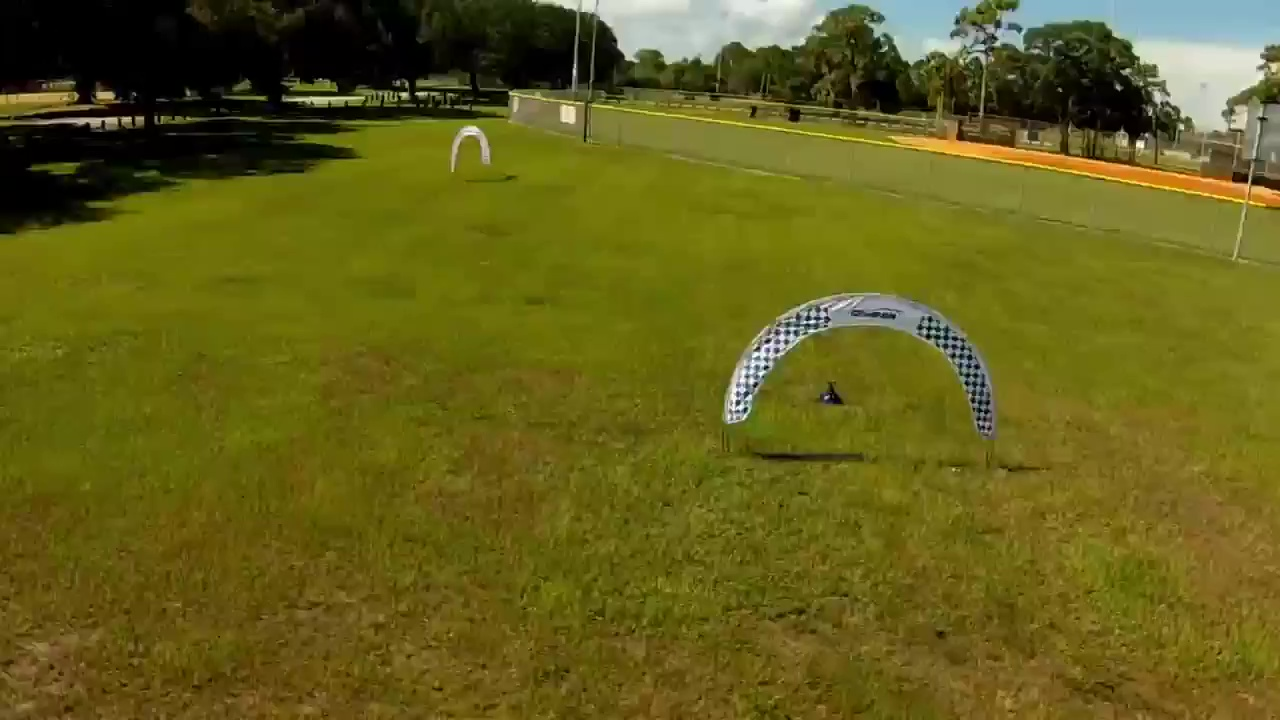gate: (719, 292, 994, 437)
